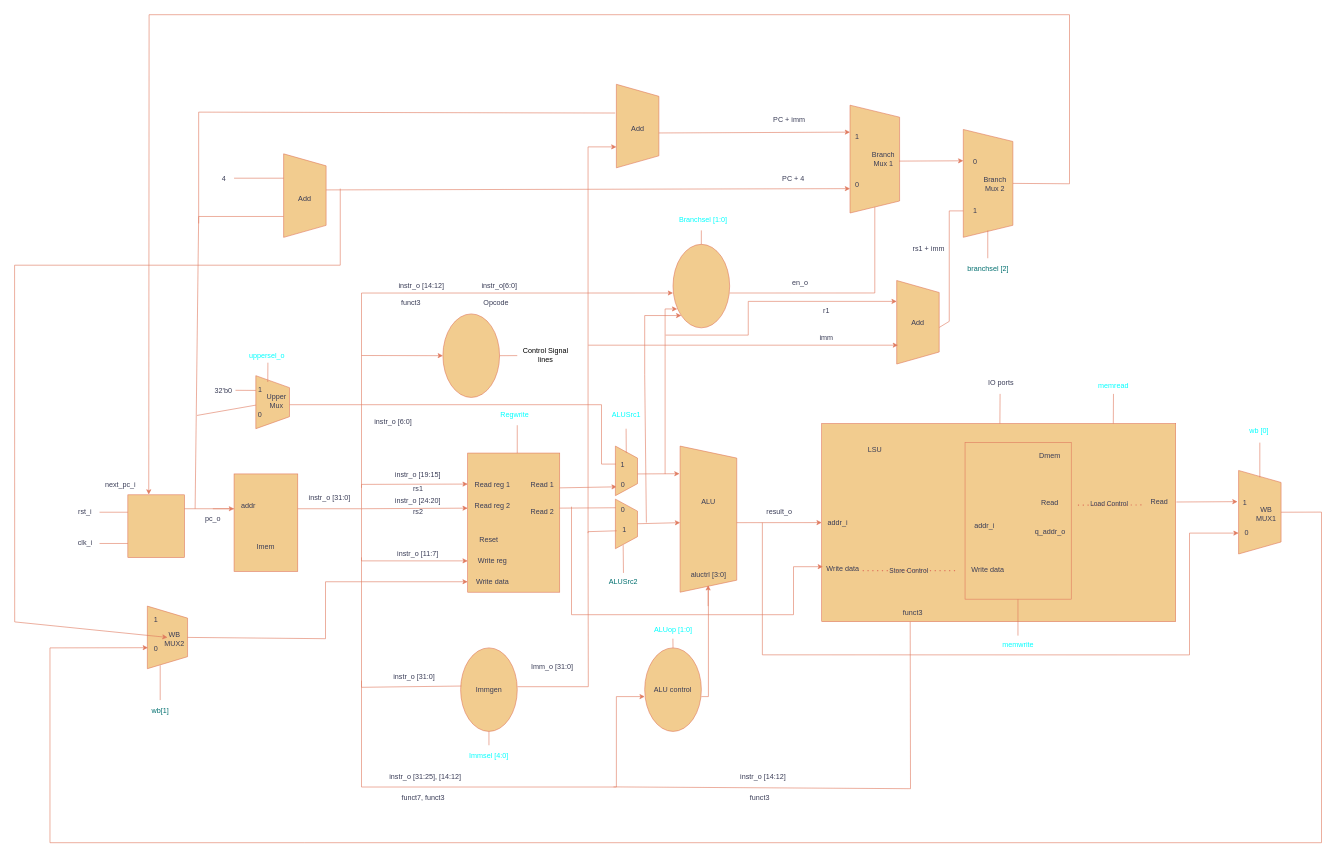
The diagram is 1337 pixels wide and 858 high, and some of its shapes have lost their labels. The shapes that lost their labels are listed below. From the top down, each one's centre as x and y in pixels, then its label:
At (x=701, y=286): "PC Control Unit".
At (x=471, y=355): "Control Unit".
At (x=155, y=525): "PC".
